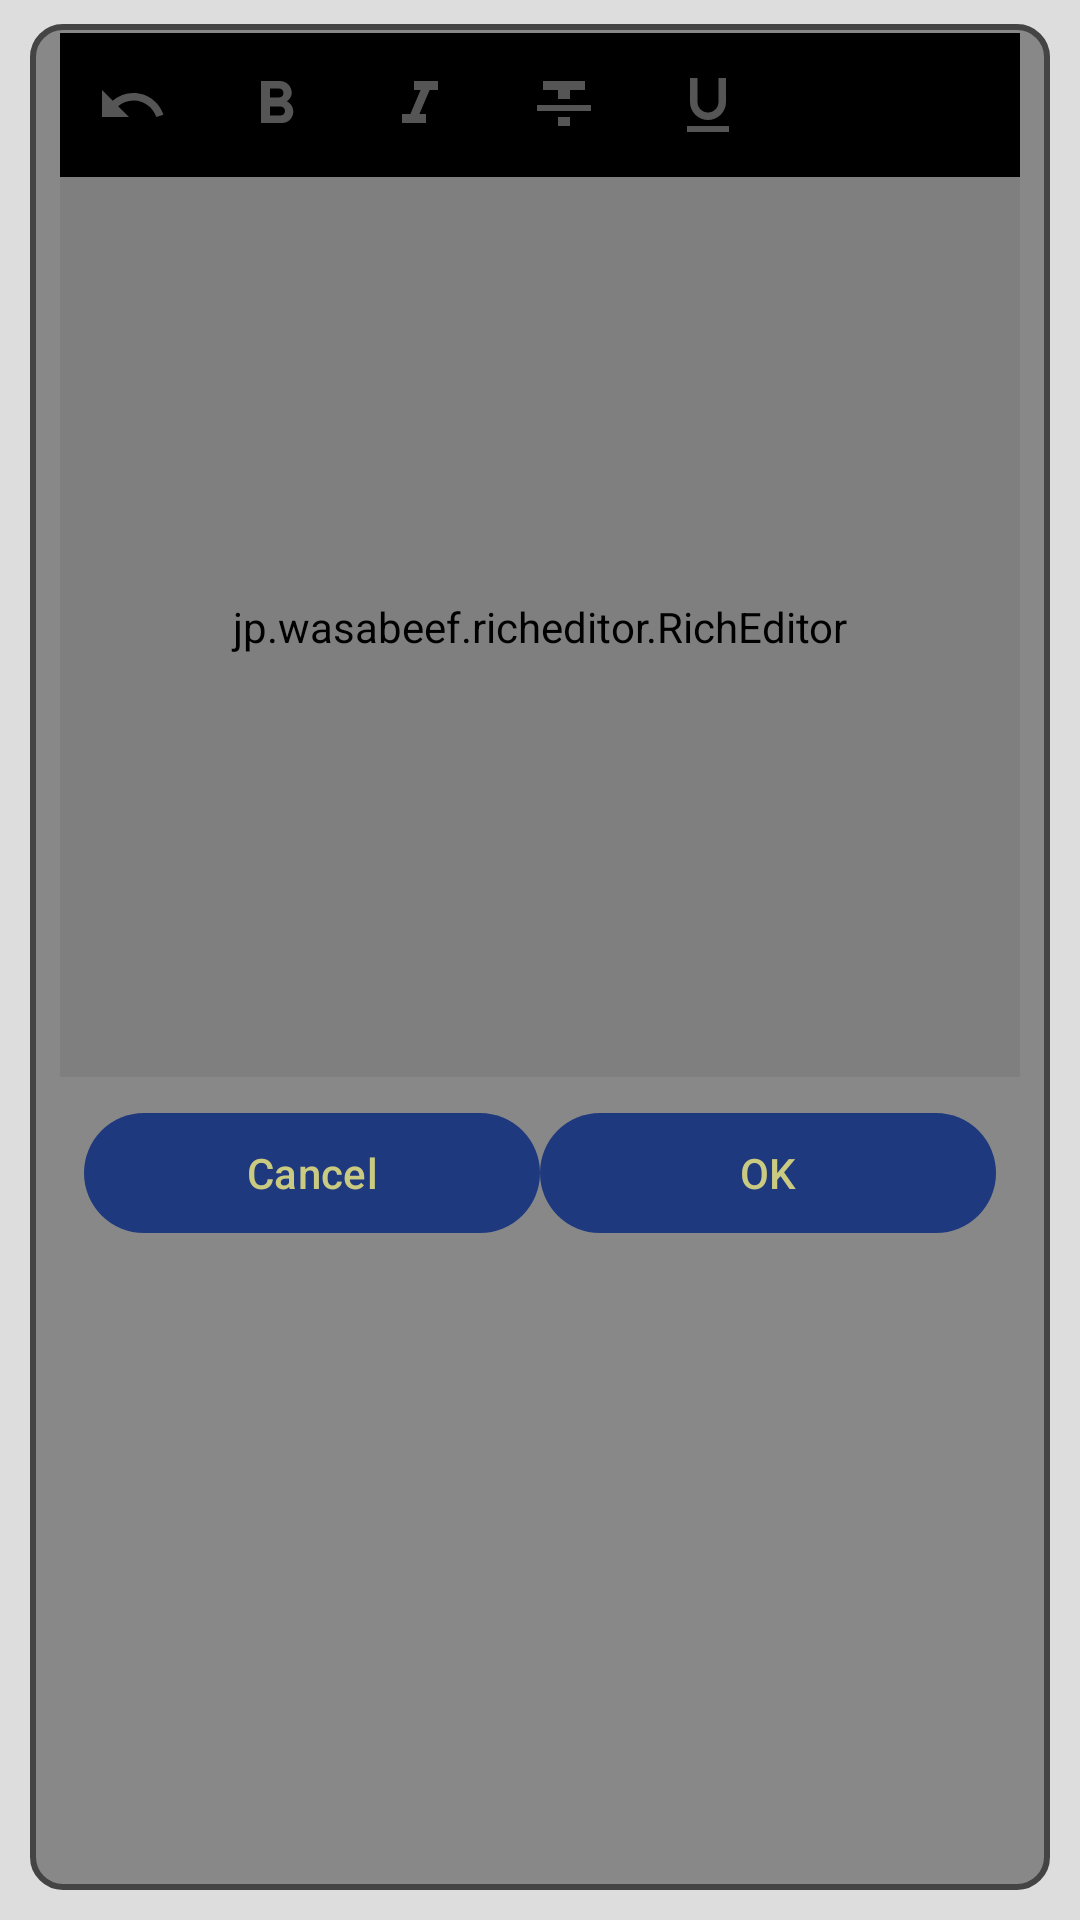

Named icons in this screenshot (1080 x 1920) and their bounding boxes, BBox(x1, y1, x2, y2):
format italic: BBox(402, 81, 438, 123)
format strikethrough: BBox(537, 81, 591, 126)
format underlined: BBox(687, 78, 729, 132)
